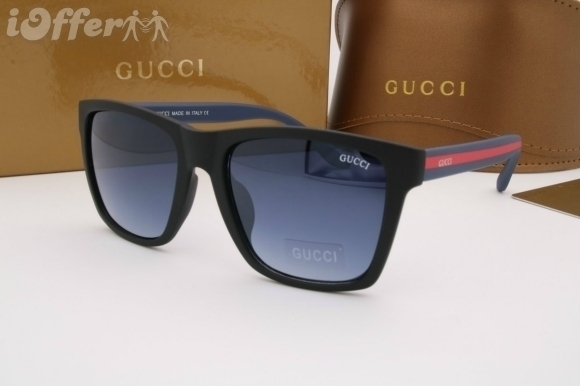sunglasses: (58, 89, 539, 272)
